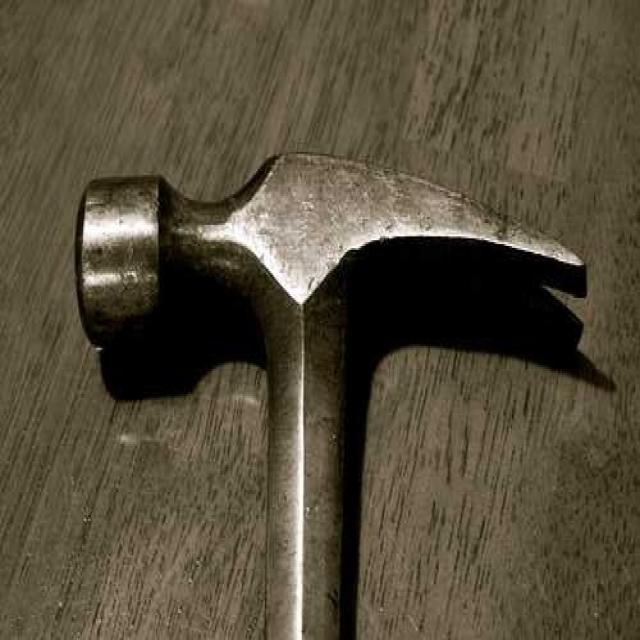hammer: (77, 152, 586, 640)
